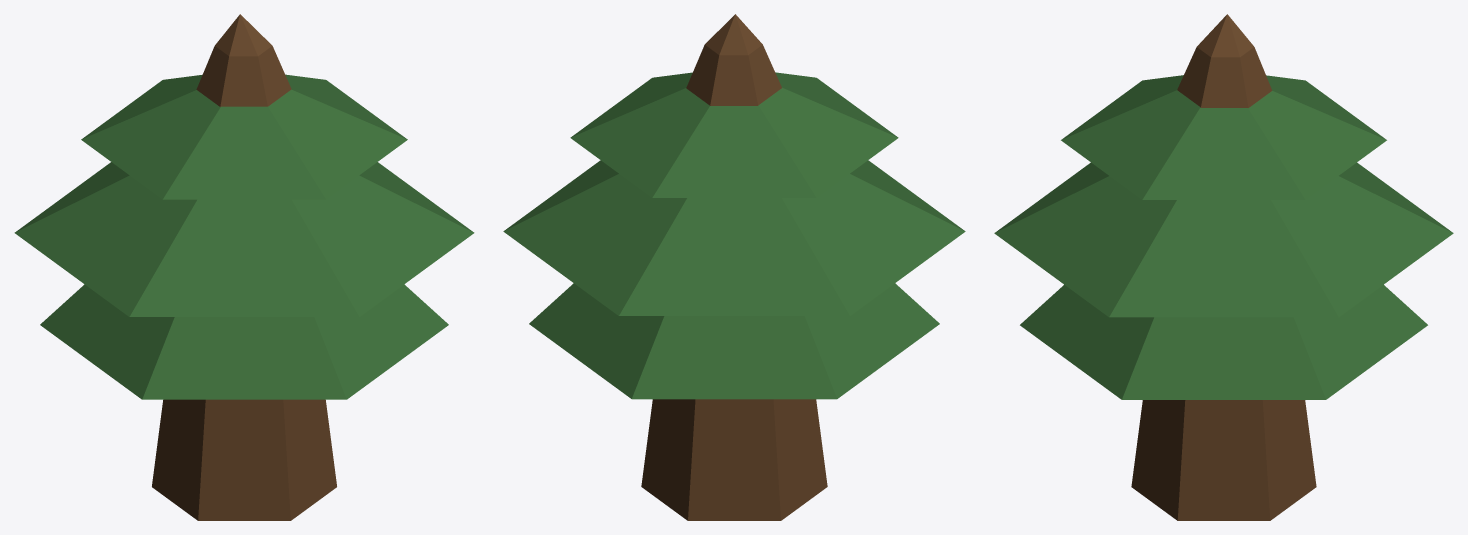
File: tree01.glb
The picture shows the model from 3 angles, left to right: view 1: azimuth 30°, elevation 25°; view 2: azimuth 150°, elevation 25°; view 3: azimuth 270°, elevation 25°; orthographic projection.
Visible parts, largest first — view 1: Cube.001, Cube; view 2: Cube.001, Cube; view 3: Cube.001, Cube.
Part boxes in pixels (x1,y1,x2,y2): Cube.001: (14, 74, 474, 399); Cube: (152, 14, 336, 520); Cube.001: (503, 72, 965, 399); Cube: (641, 14, 827, 520); Cube.001: (994, 75, 1453, 399); Cube: (1131, 14, 1316, 520).
Size of the model in its own units: 3.12 by 4.08 by 3.6.
